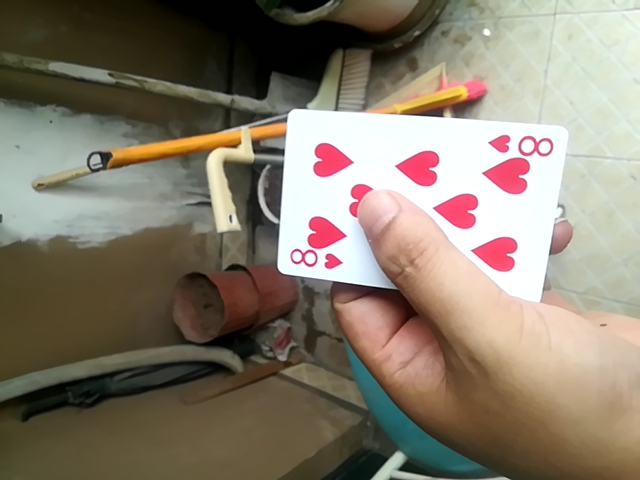hx 8: (276, 108, 566, 300)
